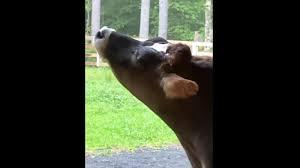cow: (94, 25, 213, 168)
